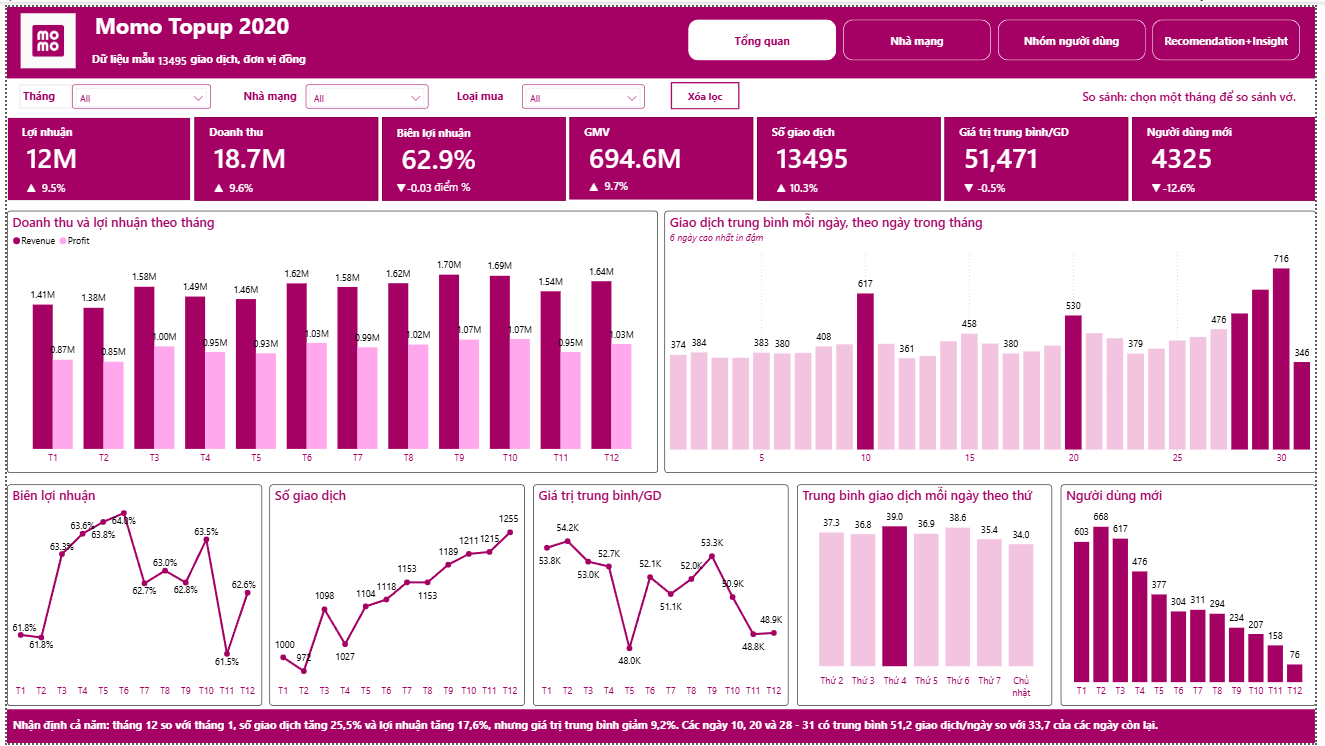

Layout of this report page (visuals, bound fields, positions):
{"tool":"powerbi","page":{"name":"Tổng quan","canvas":[1920,1080],"ordinal":0},"visuals":[{"type":"textbox","box":[106.4,0,407.2,97.2],"z":0,"group":"g7"},{"type":"slicer","fields":{"Values":["Date.Month_Label"]},"box":[95.7,113.7,203.6,34.9],"z":0,"group":"g9"},{"type":"slicer","fields":{"Values":["Commission.Merchant_Name"]},"box":[438,113.7,179.8,34.9],"z":0,"group":"g8"},{"type":"slicer","fields":{"Values":["Transactions.Purchase_Type"]},"box":[756.5,113.7,179.8,34.9],"z":0,"group":"g10"},{"type":"shape","box":[0,161.4,269.6,122.9],"z":0,"group":"g11"},{"type":"shape","box":[275.1,161.4,269.6,122.9],"z":0,"group":"g12"},{"type":"shape","box":[825.4,161.4,269.6,121.1],"z":0,"group":"g13"},{"type":"shape","box":[1100.5,161.4,269.6,122.9],"z":0,"group":"g15"},{"type":"shape","box":[1375.7,161.4,269.6,122.9],"z":0,"group":"g14"},{"type":"shape","box":[1650.8,161.4,269.6,122.9],"z":0,"group":"g16"},{"type":"cardVisual","fields":{"Data":["_Measures.Profit Margin Change"]},"box":[542.9,244.5,124.7,40.4],"z":0,"group":"g17"},{"type":"cardVisual","fields":{"Data":["_Measures.GMV MoM %"]},"box":[829.1,244.7,130.2,34.6],"z":0,"group":"g1"},{"type":"cardVisual","fields":{"Data":["_Measures.Profit MoM %"]},"box":[3.7,246,130.2,35.1],"z":0,"group":"g2"},{"type":"cardVisual","fields":{"Data":["_Measures.Revenue MoM %"]},"box":[278.8,246,130.2,35.1],"z":0,"group":"g3"},{"type":"cardVisual","fields":{"Data":["_Measures.Transaction MoM %"]},"box":[1104.2,246,130.2,35.1],"z":0,"group":"g4"},{"type":"cardVisual","fields":{"Data":["_Measures.Avg Transaction MoM %"]},"box":[1379.4,246,130.2,35.1],"z":0,"group":"g5"},{"type":"cardVisual","fields":{"Data":["_Measures.New User MoM %"]},"box":[1654.5,246,130.2,35.1],"z":0,"group":"g6"},{"type":"clusteredColumnChart","title":"Doanh thu và lợi nhuận theo tháng","fields":{"Category":["Date.Month_Label"],"Y":["_Measures.Revenue","_Measures.Profit"]},"box":[0,299,955,385],"z":0},{"type":"cardVisual","fields":{"Data":["_Measures.Total Transactions"]},"box":[192.2,48.9,108.2,55],"z":1000,"group":"g7"},{"type":"textbox","box":[18.7,113.7,77,34.9],"z":1000,"group":"g9"},{"type":"textbox","box":[337.1,113.7,100.9,34.9],"z":1000,"group":"g8"},{"type":"textbox","box":[655.6,113.7,100.9,34.9],"z":1000,"group":"g10"},{"type":"shape","box":[550.3,161.4,269.6,122.9],"z":1000},{"type":"cardVisual","fields":{"Data":["_Measures.GMV"]},"box":[841.9,186.6,232.9,62.9],"z":1000,"group":"g13"},{"type":"cardVisual","fields":{"Data":["_Measures.Profit"]},"box":[16.5,186.9,232.9,63.8],"z":1000,"group":"g11"},{"type":"cardVisual","fields":{"Data":["_Measures.Revenue"]},"box":[291.6,186.9,232.9,63.8],"z":1000,"group":"g12"},{"type":"cardVisual","fields":{"Data":["_Measures.Total Transactions"]},"box":[1117,186.9,232.9,63.8],"z":1000,"group":"g15"},{"type":"cardVisual","fields":{"Data":["_Measures.Avg Transaction Value"]},"box":[1392.2,186.9,232.9,63.8],"z":1000,"group":"g14"},{"type":"cardVisual","fields":{"Data":["_Measures.New Users"]},"box":[1667.3,186.9,232.9,63.8],"z":1000,"group":"g16"},{"type":"cardVisual","fields":{"Data":["_Measures.GMV MoM Icon"]},"box":[825.4,244.7,71.5,36.2],"z":1000,"group":"g1"},{"type":"cardVisual","fields":{"Data":["_Measures.PM Change Icon"]},"box":[546.7,245.5,64.2,36.7],"z":1000,"group":"g17"},{"type":"cardVisual","fields":{"Data":["_Measures.Profit MoM Icon"]},"box":[0,246,71.5,36.7],"z":1000,"group":"g2"},{"type":"cardVisual","fields":{"Data":["_Measures.Revenue MoM Icon"]},"box":[275.1,246,71.5,36.7],"z":1000,"group":"g3"},{"type":"cardVisual","fields":{"Data":["_Measures.Transaction MoM Icon"]},"box":[1100.5,246,71.5,36.7],"z":1000,"group":"g4"},{"type":"cardVisual","fields":{"Data":["_Measures.Avg Transaction MoM Icon"]},"box":[1375.7,246,71.5,36.7],"z":1000,"group":"g5"},{"type":"cardVisual","fields":{"Data":["_Measures.New User MoM Icon"]},"box":[1650.8,246,71.5,36.7],"z":1000,"group":"g6"},{"type":"textbox","box":[1392.8,167.1,192.6,38.3],"z":2000,"group":"g14"},{"type":"textbox","box":[841.9,167.7,168.8,37.7],"z":2000,"group":"g13"},{"type":"textbox","box":[16.5,167.8,168.8,38.3],"z":2000,"group":"g11"},{"type":"textbox","box":[291.6,167.8,168.8,38.3],"z":2000,"group":"g12"},{"type":"textbox","box":[1117,167.8,168.8,38.3],"z":2000,"group":"g15"},{"type":"textbox","box":[1667.3,167.8,168.8,38.3],"z":2000,"group":"g16"},{"type":"shape","box":[0,1030.3,1919.6,50],"z":2000},{"type":"shape","box":[0,0,1920.5,104.6],"z":3000},{"type":"group","id":"g1","title":"Group 4","box":[825.4,244.7,133.9,36.2],"z":3000,"group":"g13"},{"type":"group","id":"g2","title":"Group 4","box":[0,246,133.9,36.7],"z":3000,"group":"g11"},{"type":"group","id":"g3","title":"Group 4","box":[275.1,246,133.9,36.7],"z":3000,"group":"g12"},{"type":"group","id":"g4","title":"Group 4","box":[1100.5,246,133.9,36.7],"z":3000,"group":"g15"},{"type":"group","id":"g5","title":"Group 4","box":[1375.7,246,133.9,36.7],"z":3000,"group":"g14"},{"type":"group","id":"g6","title":"Group 4","box":[1650.8,246,133.9,36.7],"z":3000,"group":"g16"},{"type":"cardVisual","fields":{"Data":["_Measures.Profit Margin"]},"box":[566.8,190.8,232.9,60.5],"z":4000},{"type":"image","box":[0,9.2,121.1,80.7],"z":5000},{"type":"textbox","box":[566.8,168.8,168.8,44],"z":6000},{"type":"group","id":"g7","title":"Group 1","box":[106.4,0,407.2,104.6],"z":7000},{"type":"pageNavigator","box":[999.7,18.3,900.6,60.5],"z":8000},{"type":"group","id":"g8","title":"Group 3","box":[337.1,113.7,280.6,34.9],"z":9000},{"type":"group","id":"g9","title":"Group 2","box":[18.7,113.7,280.6,34.9],"z":10000},{"type":"group","id":"g10","title":"Group 3","box":[655.6,113.7,280.6,34.9],"z":11000},{"type":"group","id":"g11","title":"Group 5","box":[0,161.4,269.6,122.9],"z":12000},{"type":"group","id":"g12","title":"Group 5","box":[275.1,161.4,269.6,122.9],"z":13000},{"type":"group","id":"g13","title":"Group 5","box":[825.4,161.4,269.6,121.1],"z":14000},{"type":"textbox","box":[621.9,247.5,97.2,42.2],"z":14001,"group":"g17"},{"type":"group","id":"g14","title":"Group 5","box":[1375.7,161.4,269.6,122.9],"z":15000},{"type":"group","id":"g15","title":"Group 5","box":[1100.5,161.4,269.6,122.9],"z":16000},{"type":"group","id":"g16","title":"Group 5","box":[1650.8,161.4,269.6,122.9],"z":17000},{"type":"group","id":"g17","title":"Group 6","box":[542.9,244.5,176.2,45.1],"z":18000},{"type":"cardVisual","fields":{"Data":["_Measures.So Sanh Text"]},"box":[1535.3,78.9,385.2,100.9],"z":19000},{"type":"clusteredColumnChart","title":"Giao dịch trung bình mỗi ngày, theo ngày trong tháng","fields":{"Category":["Date.Day_No"],"Y":["_Measures.Total Transactions"]},"box":[964.8,299,955.6,385.2],"z":20000},{"type":"actionButton","box":[974,110.1,100.9,40.4],"z":21000},{"type":"lineChart","title":"Biên lợi nhuận","fields":{"Category":["Date.Month_Label"],"Y":["_Measures.Profit Margin"]},"box":[0,700.7,374.2,324.7],"z":22000},{"type":"lineChart","title":"Số giao dịch ","fields":{"Category":["Date.Month_Label"],"Y":["_Measures.Total Transactions"]},"box":[385.2,700.7,374.2,324.7],"z":23000},{"type":"lineChart","title":"Giá trị trung bình/GD","fields":{"Category":["Date.Month_Label"],"Y":["_Measures.Avg Transaction Value"]},"box":[772.2,700.7,374.2,324.7],"z":24000},{"type":"clusteredColumnChart","title":"Trung bình giao dịch mỗi ngày theo thứ","fields":{"Category":["Date.Weekday_Label"],"Y":["_Measures.Avg Daily Transactions"]},"box":[1159.2,700.7,374.2,324.7],"z":25000},{"type":"clusteredColumnChart","title":"Người dùng mới","fields":{"Category":["Date.Month_Label"],"Y":["_Measures.New Users"]},"box":[1546.3,700.7,374.2,325],"z":26000},{"type":"textbox","box":[3.7,1037.1,1915.9,39.1],"z":27000}]}

Visuals, with their boxes in screenshot pixels (x1, y1, x2, y2), scaled from the page's 1920x1080 canvas onto the 1325x746 screenshot:
textbox: select_region(73, 0, 354, 67)
slicer - Date.Month_Label: select_region(66, 79, 207, 103)
slicer - Commission.Merchant_Name: select_region(302, 79, 426, 103)
slicer - Transactions.Purchase_Type: select_region(522, 79, 646, 103)
shape: select_region(0, 111, 186, 196)
shape: select_region(190, 111, 376, 196)
shape: select_region(570, 111, 756, 195)
shape: select_region(759, 111, 946, 196)
shape: select_region(949, 111, 1135, 196)
shape: select_region(1139, 111, 1324, 196)
cardVisual - _Measures.Profit Margin Change: select_region(375, 169, 461, 197)
cardVisual - _Measures.GMV MoM %: select_region(572, 169, 662, 193)
cardVisual - _Measures.Profit MoM %: select_region(3, 170, 92, 194)
cardVisual - _Measures.Revenue MoM %: select_region(192, 170, 282, 194)
cardVisual - _Measures.Transaction MoM %: select_region(762, 170, 852, 194)
cardVisual - _Measures.Avg Transaction MoM %: select_region(952, 170, 1042, 194)
cardVisual - _Measures.New User MoM %: select_region(1142, 170, 1232, 194)
"Doanh thu và lợi nhuận theo tháng" clusteredColumnChart: select_region(0, 207, 659, 472)
cardVisual - _Measures.Total Transactions: select_region(133, 34, 207, 72)
textbox: select_region(13, 79, 66, 103)
textbox: select_region(233, 79, 302, 103)
textbox: select_region(452, 79, 522, 103)
shape: select_region(380, 111, 566, 196)
cardVisual - _Measures.GMV: select_region(581, 129, 742, 172)
cardVisual - _Measures.Profit: select_region(11, 129, 172, 173)
cardVisual - _Measures.Revenue: select_region(201, 129, 362, 173)
cardVisual - _Measures.Total Transactions: select_region(771, 129, 932, 173)
cardVisual - _Measures.Avg Transaction Value: select_region(961, 129, 1121, 173)
cardVisual - _Measures.New Users: select_region(1151, 129, 1311, 173)
cardVisual - _Measures.GMV MoM Icon: select_region(570, 169, 619, 194)
cardVisual - _Measures.PM Change Icon: select_region(377, 170, 422, 195)
cardVisual - _Measures.Profit MoM Icon: select_region(0, 170, 49, 195)
cardVisual - _Measures.Revenue MoM Icon: select_region(190, 170, 239, 195)
cardVisual - _Measures.Transaction MoM Icon: select_region(759, 170, 809, 195)
cardVisual - _Measures.Avg Transaction MoM Icon: select_region(949, 170, 999, 195)
cardVisual - _Measures.New User MoM Icon: select_region(1139, 170, 1189, 195)
textbox: select_region(961, 115, 1094, 142)
textbox: select_region(581, 116, 697, 142)
textbox: select_region(11, 116, 128, 142)
textbox: select_region(201, 116, 318, 142)
textbox: select_region(771, 116, 887, 142)
textbox: select_region(1151, 116, 1267, 142)
shape: select_region(0, 712, 1324, 745)
shape: select_region(0, 0, 1324, 72)
"Group 4" group: select_region(570, 169, 662, 194)
"Group 4" group: select_region(0, 170, 92, 195)
"Group 4" group: select_region(190, 170, 282, 195)
"Group 4" group: select_region(759, 170, 852, 195)
"Group 4" group: select_region(949, 170, 1042, 195)
"Group 4" group: select_region(1139, 170, 1232, 195)
cardVisual - _Measures.Profit Margin: select_region(391, 132, 552, 174)
image: select_region(0, 6, 84, 62)
textbox: select_region(391, 117, 508, 147)
"Group 1" group: select_region(73, 0, 354, 72)
pageNavigator: select_region(690, 13, 1311, 54)
"Group 3" group: select_region(233, 79, 426, 103)
"Group 2" group: select_region(13, 79, 207, 103)
"Group 3" group: select_region(452, 79, 646, 103)
"Group 5" group: select_region(0, 111, 186, 196)
"Group 5" group: select_region(190, 111, 376, 196)
"Group 5" group: select_region(570, 111, 756, 195)
textbox: select_region(429, 171, 496, 200)
"Group 5" group: select_region(949, 111, 1135, 196)
"Group 5" group: select_region(759, 111, 946, 196)
"Group 5" group: select_region(1139, 111, 1324, 196)
"Group 6" group: select_region(375, 169, 496, 200)
cardVisual - _Measures.So Sanh Text: select_region(1060, 54, 1324, 124)
"Giao dịch trung bình mỗi ngày, theo ngày trong tháng" clusteredColumnChart: select_region(666, 207, 1324, 473)
actionButton: select_region(672, 76, 742, 104)
"Biên lợi nhuận" lineChart: select_region(0, 484, 258, 708)
"Số giao dịch " lineChart: select_region(266, 484, 524, 708)
"Giá trị trung bình/GD" lineChart: select_region(533, 484, 791, 708)
"Trung bình giao dịch mỗi ngày theo thứ" clusteredColumnChart: select_region(800, 484, 1058, 708)
"Người dùng mới" clusteredColumnChart: select_region(1067, 484, 1324, 708)
textbox: select_region(3, 716, 1324, 743)
